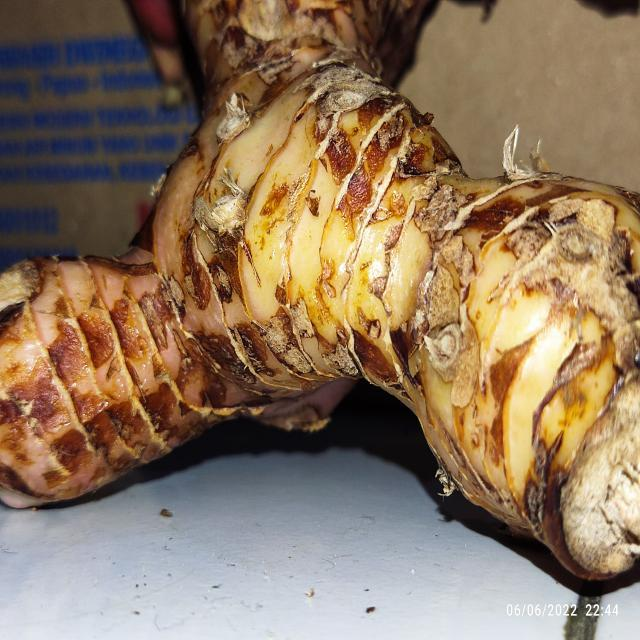ginger: (11, 6, 640, 564)
